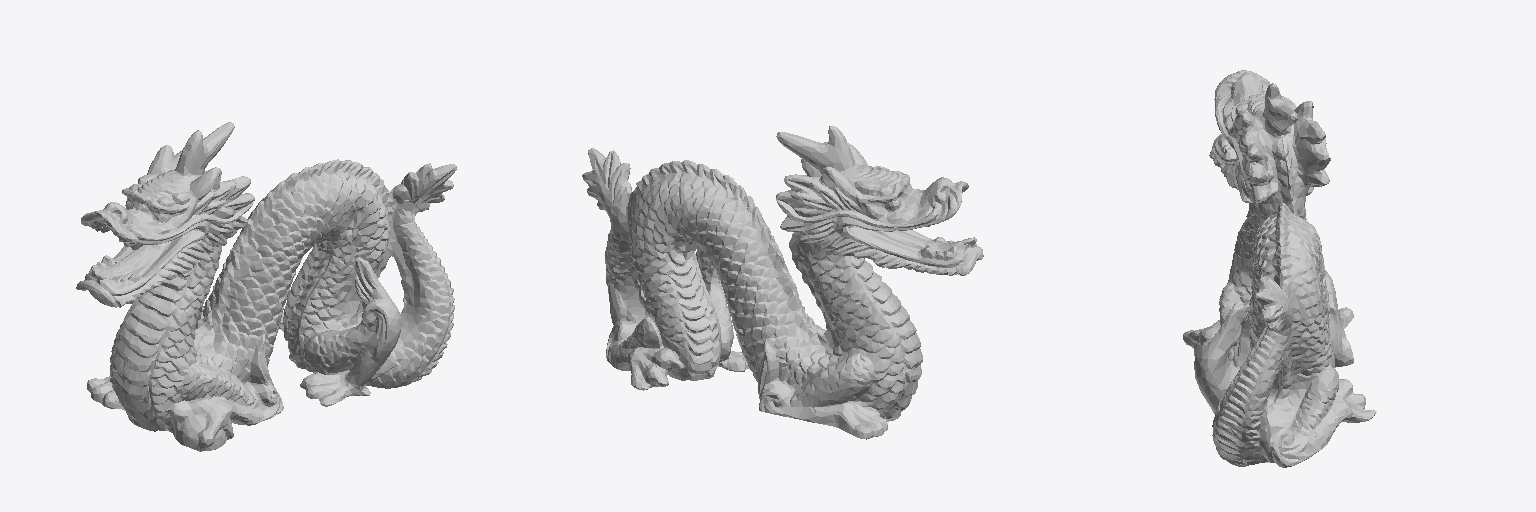
File: dragon.obj
3 views of the same model, side by side, from view 1: azimuth 30°, elevation 25°; view 2: azimuth 150°, elevation 25°; view 3: azimuth 270°, elevation 25° (orthographic).
Parts seen in each view (by area): view 1: Dragon_1; view 2: Dragon_1; view 3: Dragon_1.
Part boxes in pixels (x1,y1,x2,y2): Dragon_1: (76,122,456,451); Dragon_1: (582,126,983,439); Dragon_1: (1183,70,1376,467).
Bounding box in the file's own units: 5.94 × 4.24 × 2.6.